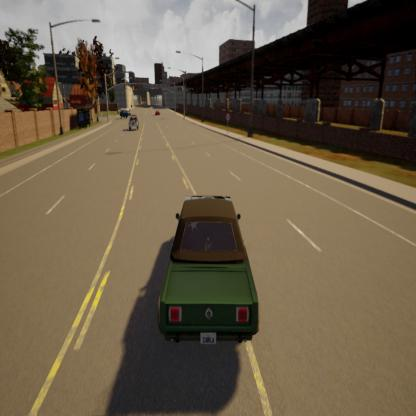Cars: (153, 189, 264, 354), (128, 112, 140, 134), (119, 105, 131, 120), (154, 107, 162, 116)
